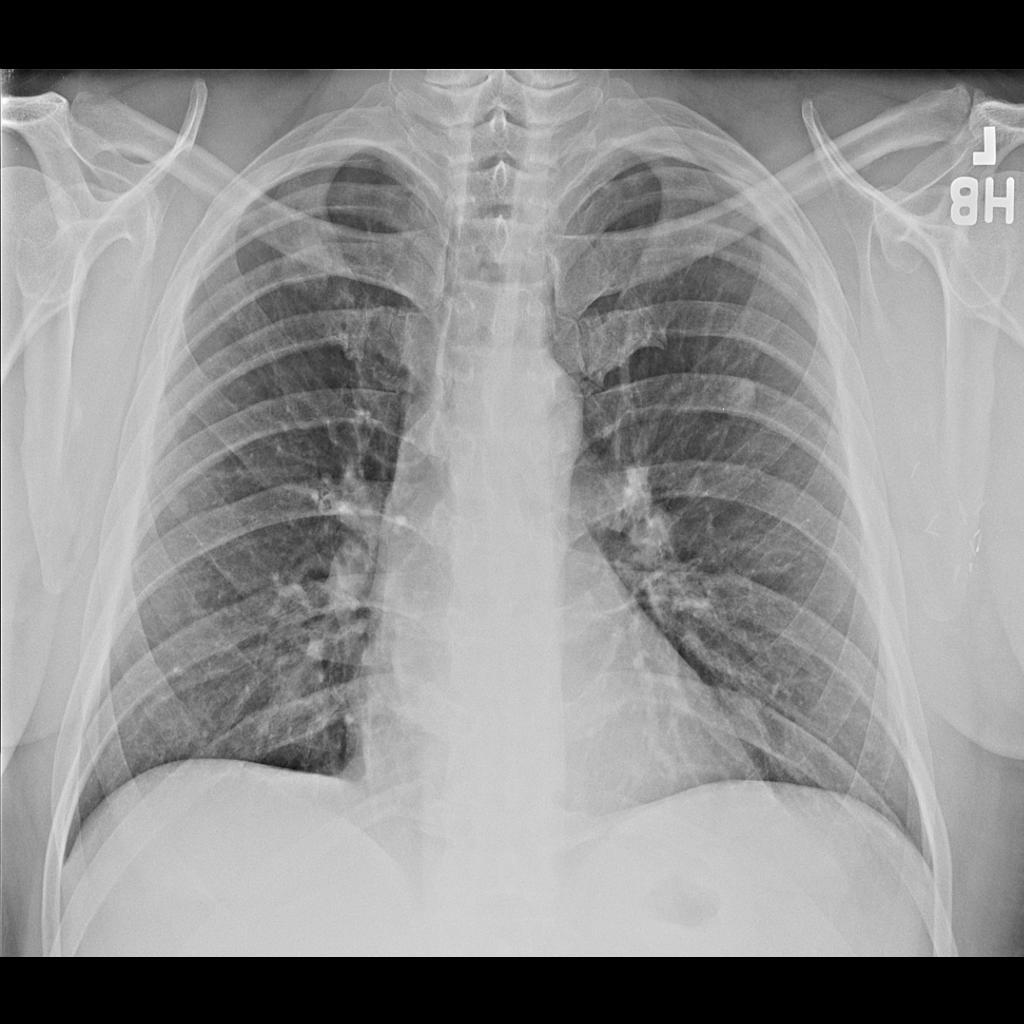Nodule: (275, 239, 337, 296), (727, 380, 761, 422)
